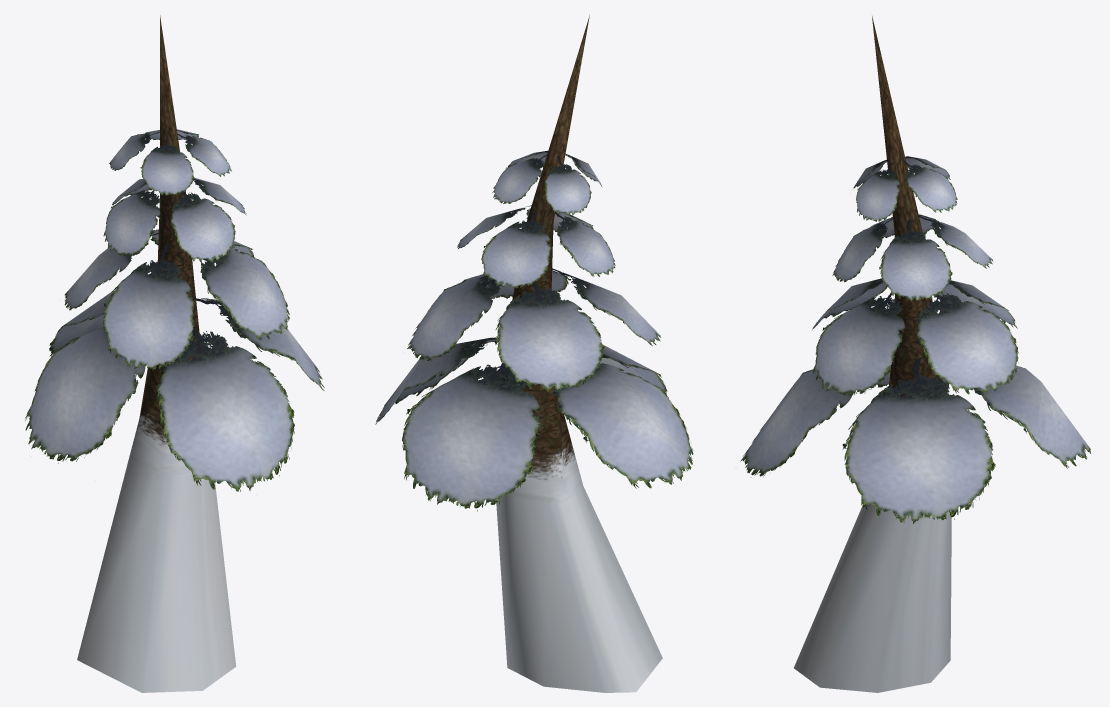
The model's file is Tree3.FBX.
The picture shows the model from 3 angles, left to right: view 1: azimuth 30°, elevation 25°; view 2: azimuth 150°, elevation 25°; view 3: azimuth 270°, elevation 25°; orthographic projection.
Parts seen in each view (by area): view 1: Tree; view 2: Tree; view 3: Tree.
Boxes of the visible parts, x1,y1,x2,y2 form: Tree: (25,15,324,692); Tree: (375,15,693,692); Tree: (740,16,1090,692).
Size of the model in its own units: 107 by 112 by 223.
2 materials, 2 textured.
